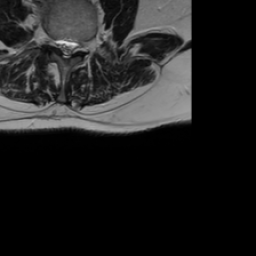CCS_normal: (62, 31, 69, 67)
LFS_normal: (77, 31, 86, 58)
LLS_normal: (69, 31, 77, 61)
RFS_normal: (46, 26, 54, 51)
RLS_normal: (54, 31, 62, 55)
